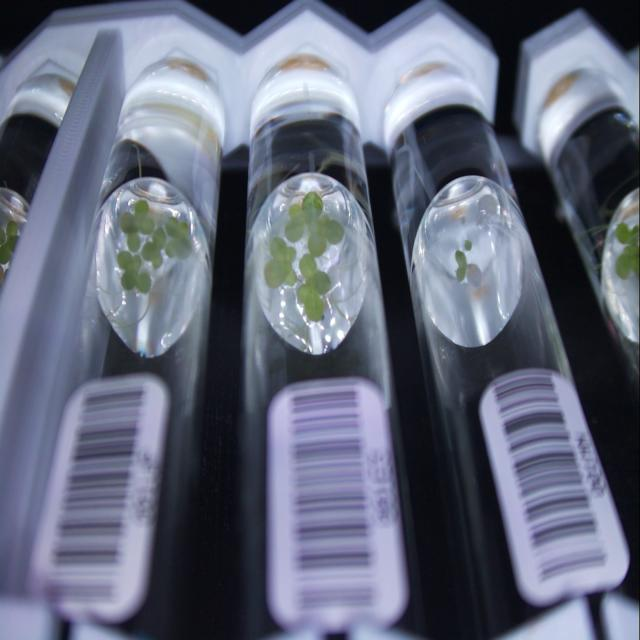Lemna-Gibba: (300, 192, 344, 257), (298, 254, 330, 322), (120, 200, 155, 252), (264, 237, 296, 289), (116, 250, 151, 294), (165, 217, 191, 259), (141, 227, 166, 269), (285, 203, 305, 242), (455, 250, 466, 282), (464, 240, 472, 251)
